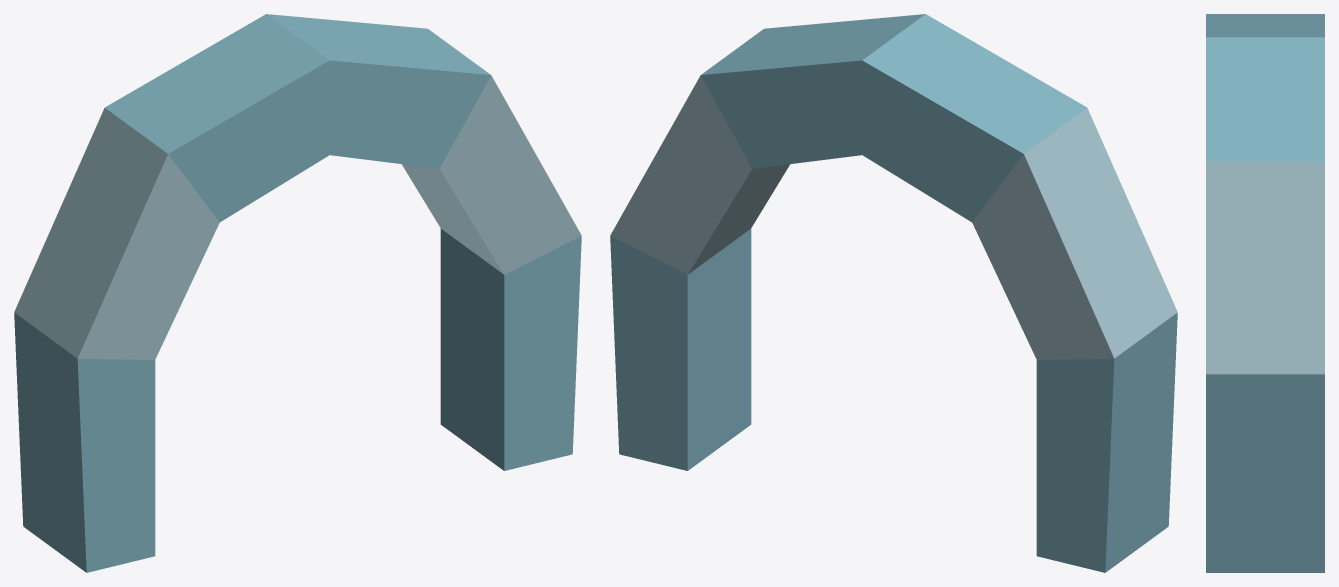
File: Frosty_IceArch_Simple.glb
The picture shows the model from 3 angles, left to right: view 1: azimuth 30°, elevation 25°; view 2: azimuth 150°, elevation 25°; view 3: azimuth 270°, elevation 25°; orthographic projection. The views are drawn at different scales.
Visible parts, largest first — view 1: Frosty_IceArch_Simple; view 2: Frosty_IceArch_Simple; view 3: Frosty_IceArch_Simple.
Boxes of the visible parts, <box> form: Frosty_IceArch_Simple: <box>14,14,581,572</box>; Frosty_IceArch_Simple: <box>610,14,1177,572</box>; Frosty_IceArch_Simple: <box>1206,14,1324,572</box>.
Bounding box in the file's own units: 3.9 × 3.35 × 0.85.
